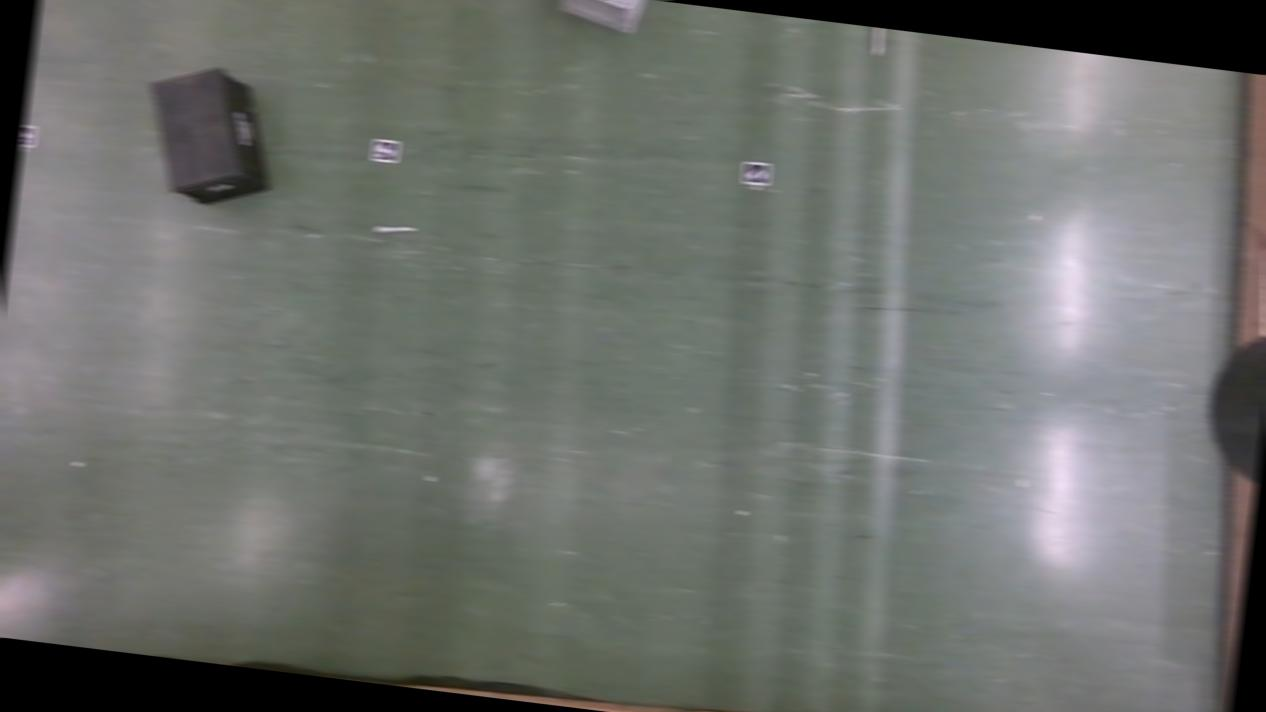rako: (134, 61, 282, 216)
